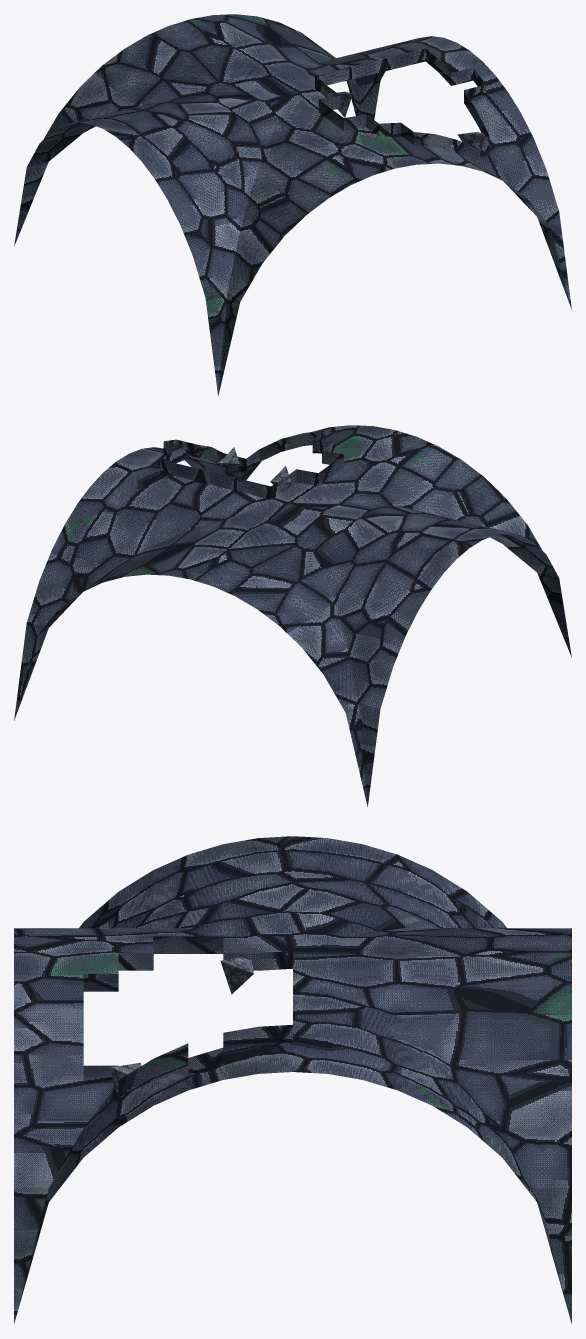
The model's file is SM_Env_VaultGroin_4x4_Collapsed.glb.
3 renders of one model, top to bottom at view 1: azimuth 30°, elevation 25°; view 2: azimuth 150°, elevation 25°; view 3: azimuth 270°, elevation 25°, orthographic. The views are drawn at different scales.
Parts seen in each view (by area): view 1: vault; view 2: vault; view 3: vault, fracture_0.
Boxes of the visible parts, x1,y1,x2,y2 form: vault: (14, 14, 571, 395); vault: (14, 425, 571, 806); vault: (14, 836, 571, 1323); fracture_0: (220, 957, 253, 994).
Bounding box in the file's own units: 4 × 2.14 × 4.
1 material, 1 textured.
